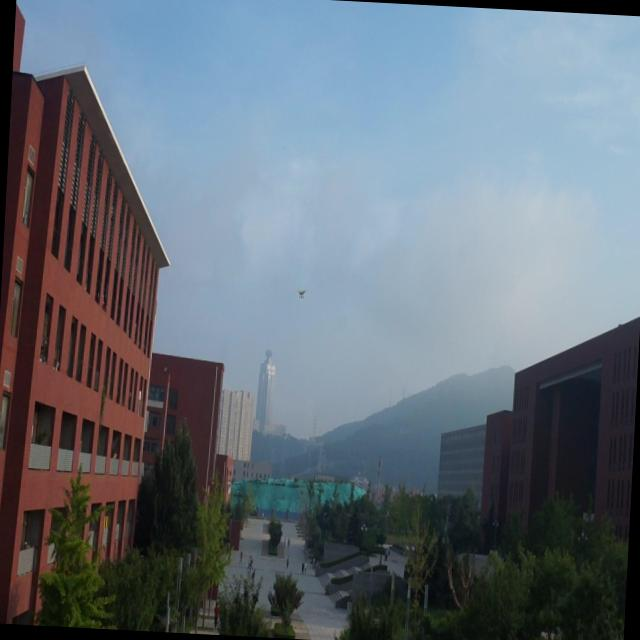drone: (294, 286, 310, 300)
